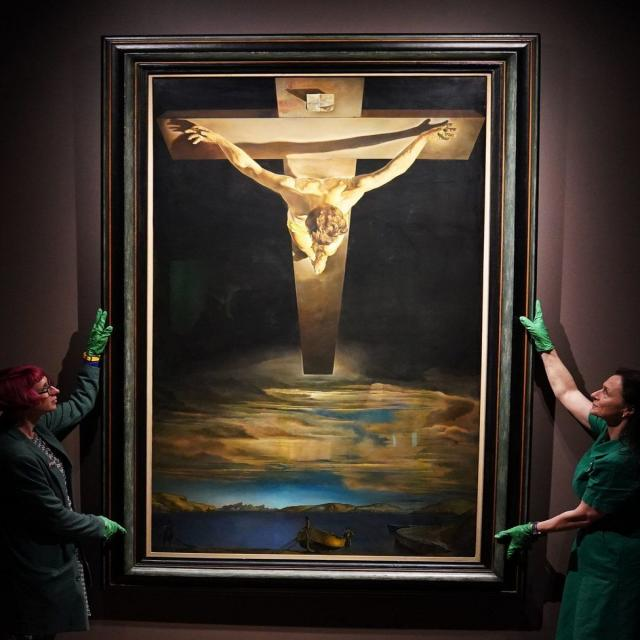Tablo: (148, 74, 492, 562)
